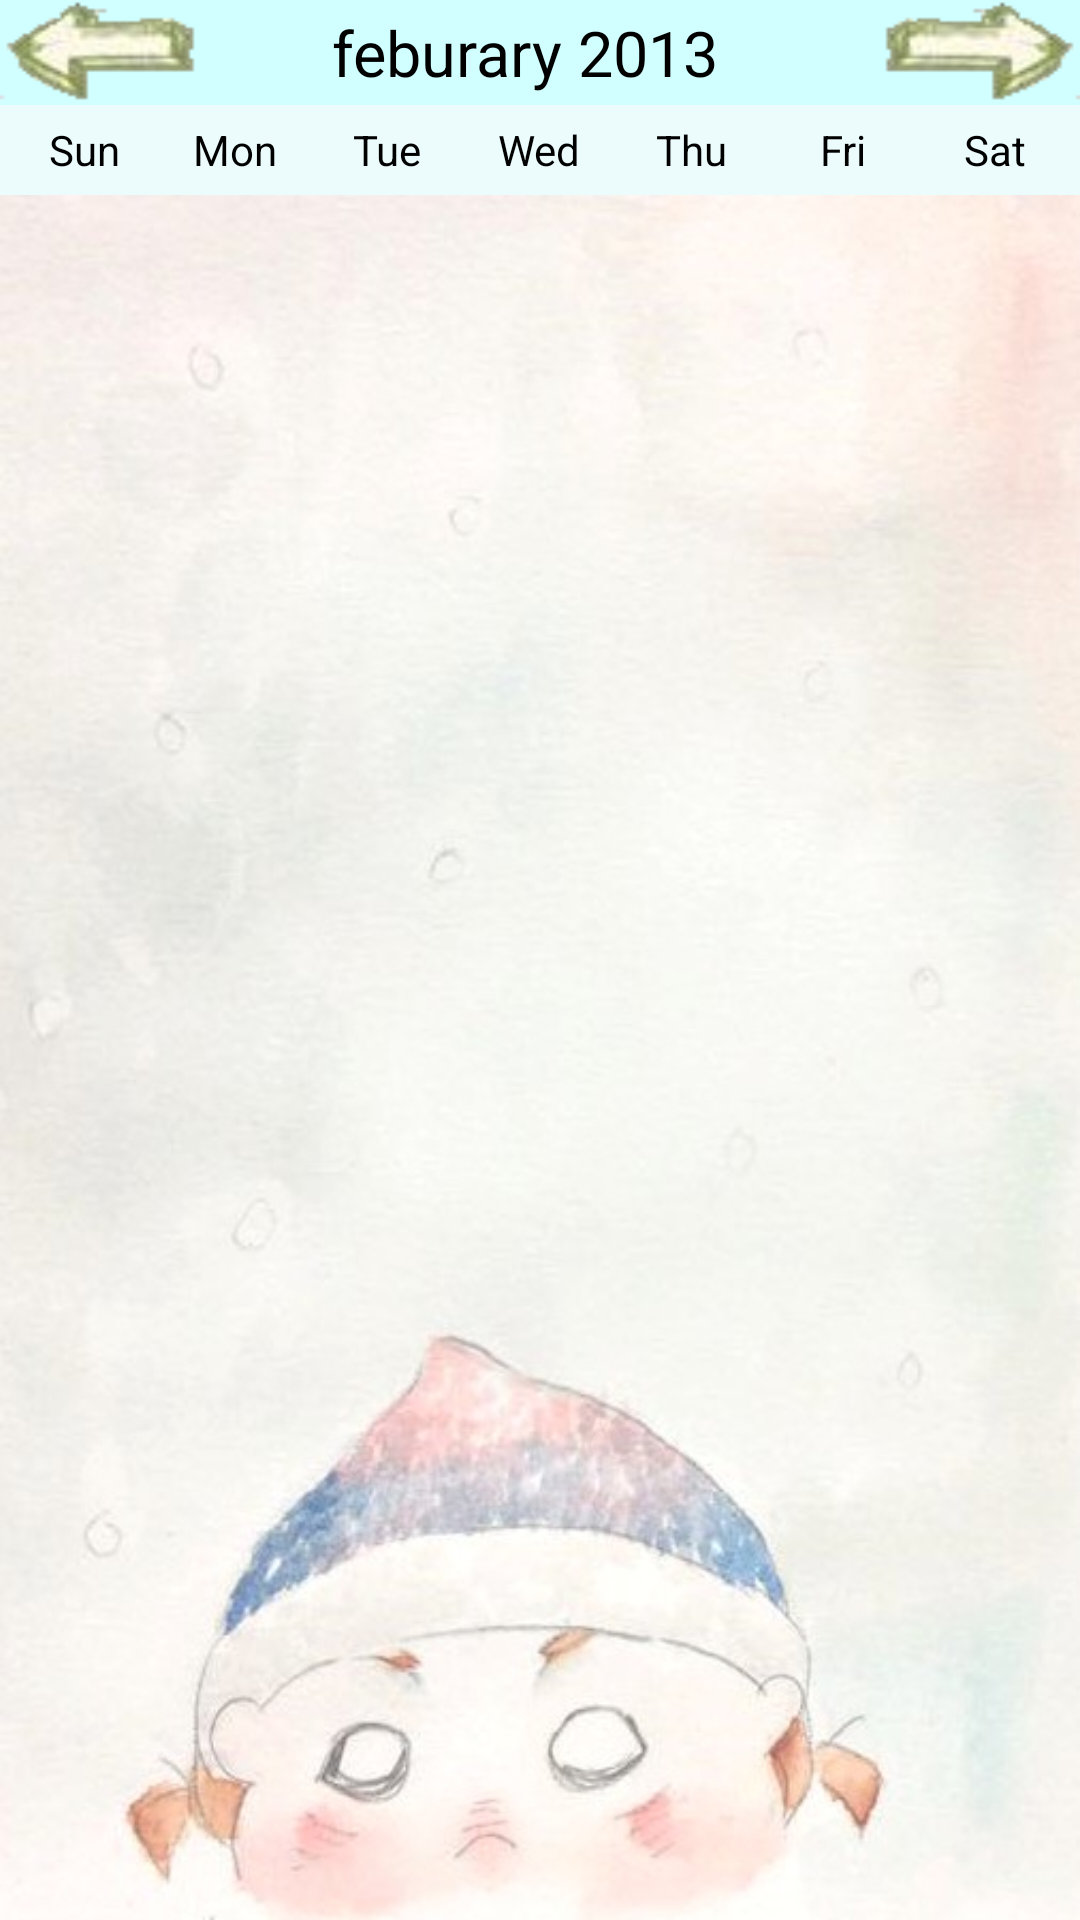

Where icons sit on this 1080px×1920px app screen, as {"x1": x1, "y1": y1, "x2": x2, "y2": y2}:
arrow left: {"x1": 0, "y1": 2, "x2": 194, "y2": 100}
arrow right: {"x1": 886, "y1": 2, "x2": 1080, "y2": 100}
